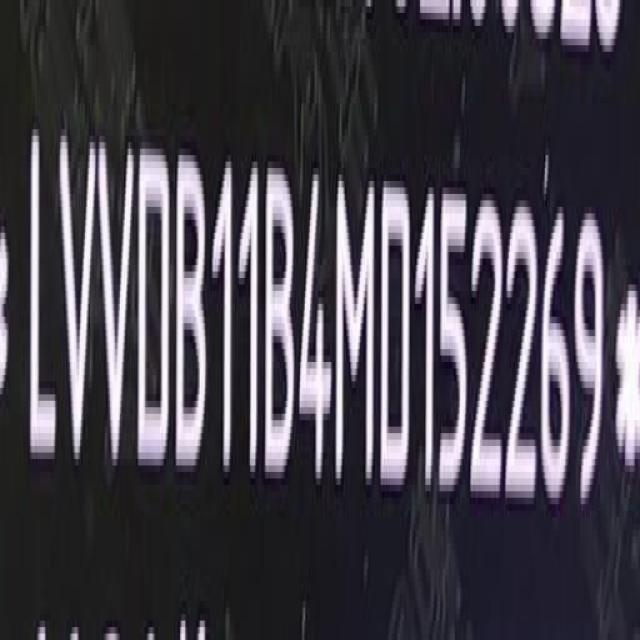1: (212, 150, 236, 483), (238, 156, 261, 486), (418, 182, 436, 502)
2: (469, 195, 505, 510), (508, 199, 540, 510)
4: (300, 164, 334, 490)
5: (439, 181, 468, 505)
6: (543, 202, 573, 508)
9: (576, 207, 605, 507)
B: (266, 158, 298, 487), (178, 149, 210, 475)
D: (135, 140, 171, 477), (382, 178, 418, 502)
L: (28, 112, 58, 465)
M: (336, 174, 378, 496)
V: (57, 128, 96, 469), (100, 132, 136, 472)
